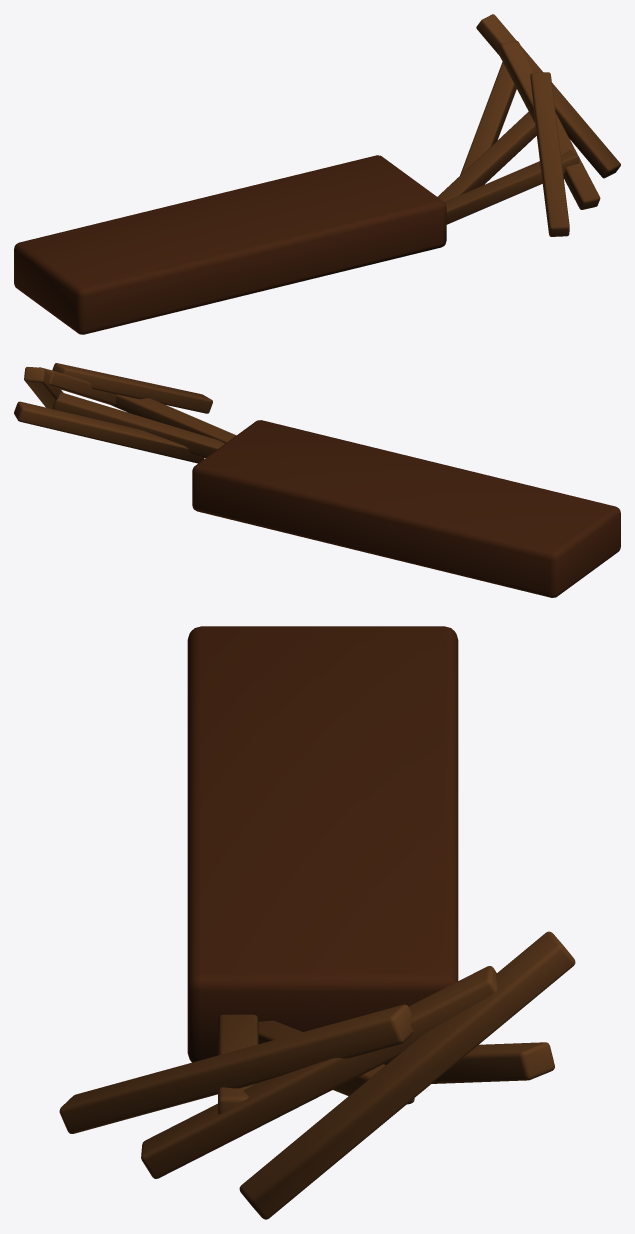
File: splintered-wood.obj
3 views of the same model, one above another, from view 1: azimuth 30°, elevation 25°; view 2: azimuth 150°, elevation 25°; view 3: azimuth 270°, elevation 25° (orthographic). The views are drawn at different scales.
Visible parts, largest first — view 1: splintered-wood; view 2: splintered-wood; view 3: splintered-wood.
Part boxes in pixels (x1,y1,x2,y2): splintered-wood: (14,14,620,334); splintered-wood: (14,363,620,597); splintered-wood: (59,626,575,1219).
Bounding box in the file's own units: 0.7553 × 0.17 × 0.3052.
